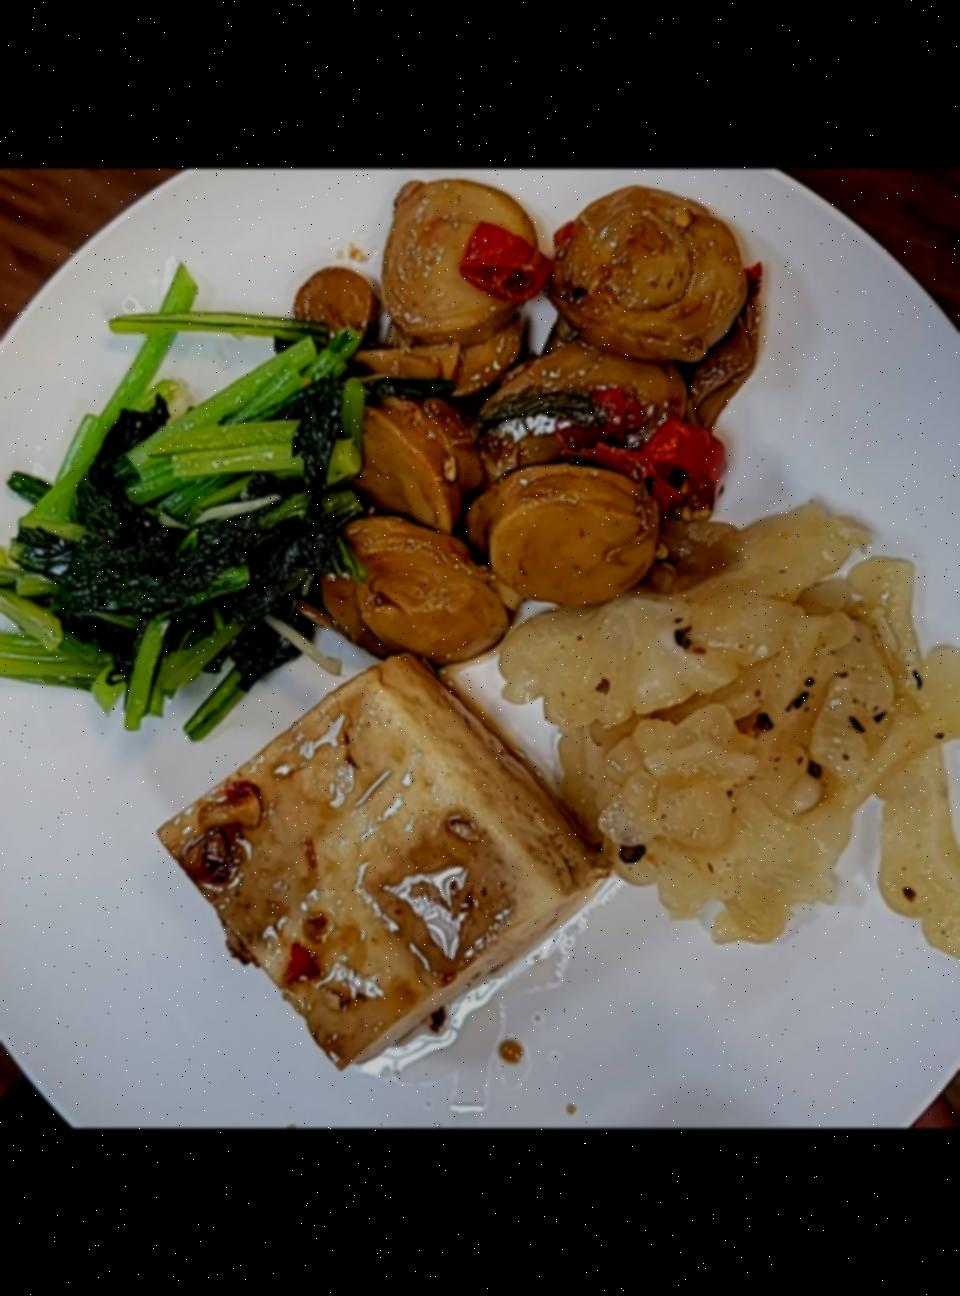plate: (0, 169, 960, 1128)
side dish: (296, 172, 767, 706), (519, 492, 960, 988), (148, 631, 620, 1079), (0, 282, 378, 752)
